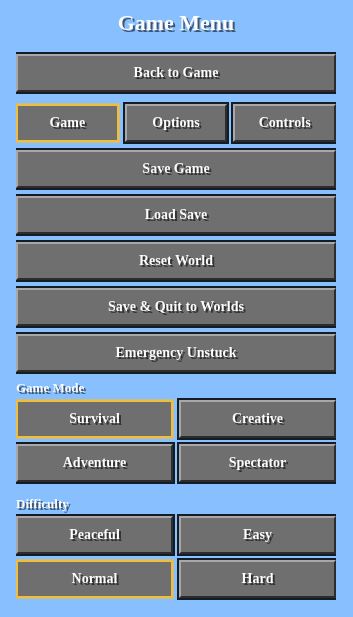
PauseMenu › shows every skin preset with only the active one pressed
Step 1. Click the button "Options" → {"x": 176, "y": 123}, box [125,104,227,142]
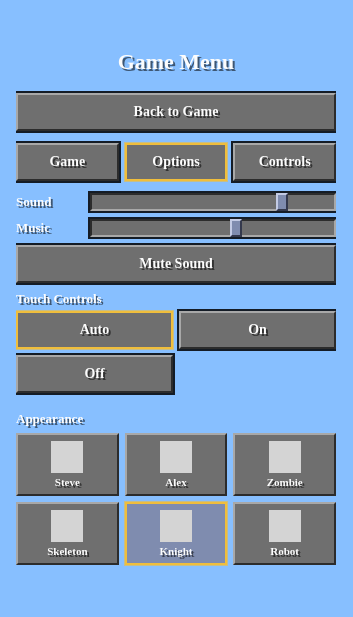
Result: the number of buttons named "skin" is 6 at [16,433,119,496]; [125,433,227,496]; [233,433,336,496]; [16,502,119,565]; [125,502,227,565]; [233,502,336,565]
